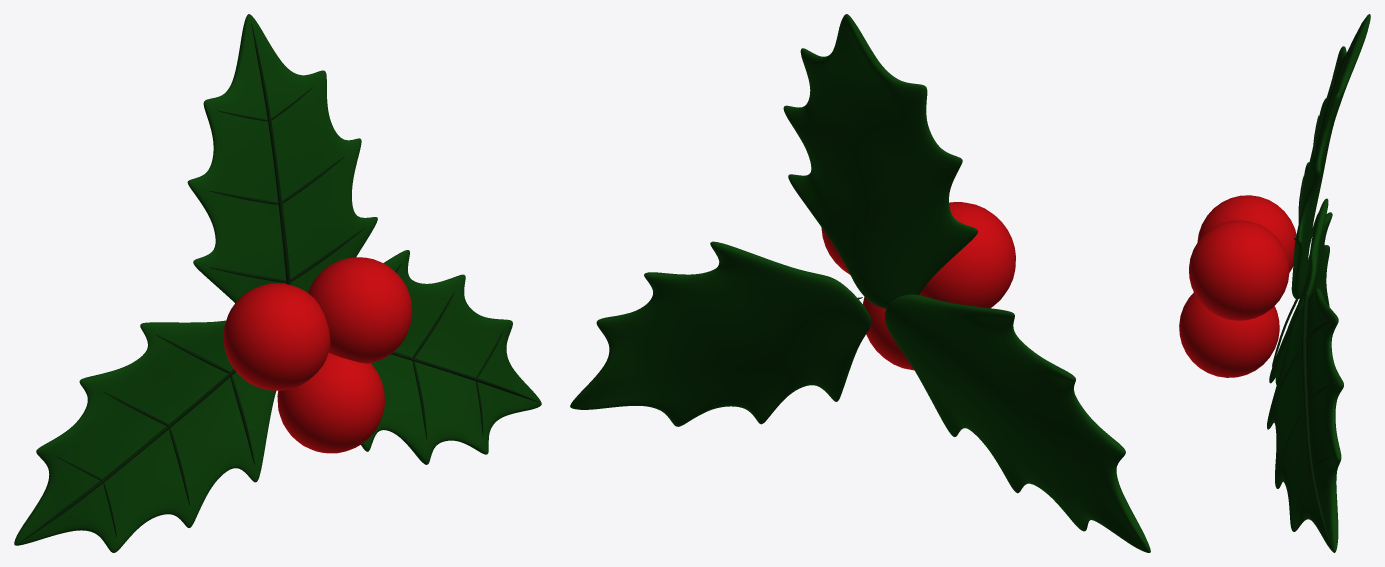
File: mistletoe 1.obj
The picture shows the model from 3 angles, left to right: view 1: azimuth 30°, elevation 25°; view 2: azimuth 150°, elevation 25°; view 3: azimuth 270°, elevation 25°; orthographic projection. The views are drawn at different scales.
Parts seen in each view (by area): view 1: Plane.019_Plane.025, Plane.006_Plane.021, Plane.011, Sphere.009, Sphere.015, Sphere.008, Plane.004, Plane.020_Plane.032; view 2: Plane.011, Plane.006_Plane.021, Plane.019_Plane.025, Sphere.009, Sphere.008; view 3: Plane.011, Sphere.015, Sphere.008, Plane.006_Plane.021, Sphere.009, Plane.019_Plane.025, Plane.012, Plane.004.
Boxes of the visible parts, left/top/right/bottom form: Plane.019_Plane.025: left=14, top=320, right=276, bottom=552; Plane.006_Plane.021: left=187, top=14, right=377, bottom=302; Plane.011: left=361, top=250, right=541, bottom=464; Sphere.009: left=223, top=283, right=330, bottom=390; Sphere.015: left=308, top=257, right=412, bottom=363; Sphere.008: left=277, top=353, right=384, bottom=453; Plane.004: left=250, top=20, right=290, bottom=284; Plane.020_Plane.032: left=21, top=369, right=235, bottom=541; Plane.011: left=570, top=241, right=871, bottom=426; Plane.006_Plane.021: left=783, top=14, right=977, bottom=308; Plane.019_Plane.025: left=885, top=294, right=1150, bottom=552; Sphere.009: left=919, top=202, right=1015, bottom=308; Sphere.008: left=863, top=297, right=913, bottom=370; Plane.011: left=1267, top=288, right=1343, bottom=552; Sphere.015: left=1189, top=220, right=1289, bottom=320; Sphere.008: left=1179, top=292, right=1279, bottom=377; Plane.006_Plane.021: left=1291, top=14, right=1370, bottom=299; Sphere.009: left=1197, top=195, right=1296, bottom=272; Plane.019_Plane.025: left=1269, top=198, right=1332, bottom=384; Plane.012: left=1302, top=295, right=1330, bottom=545; Plane.004: left=1309, top=19, right=1364, bottom=179.
Bounding box in the file's own units: 4.08 × 3.41 × 1.37.
